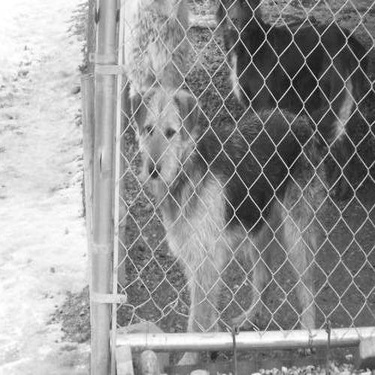dog: (104, 62, 358, 367), (211, 2, 372, 141), (110, 5, 196, 125)
